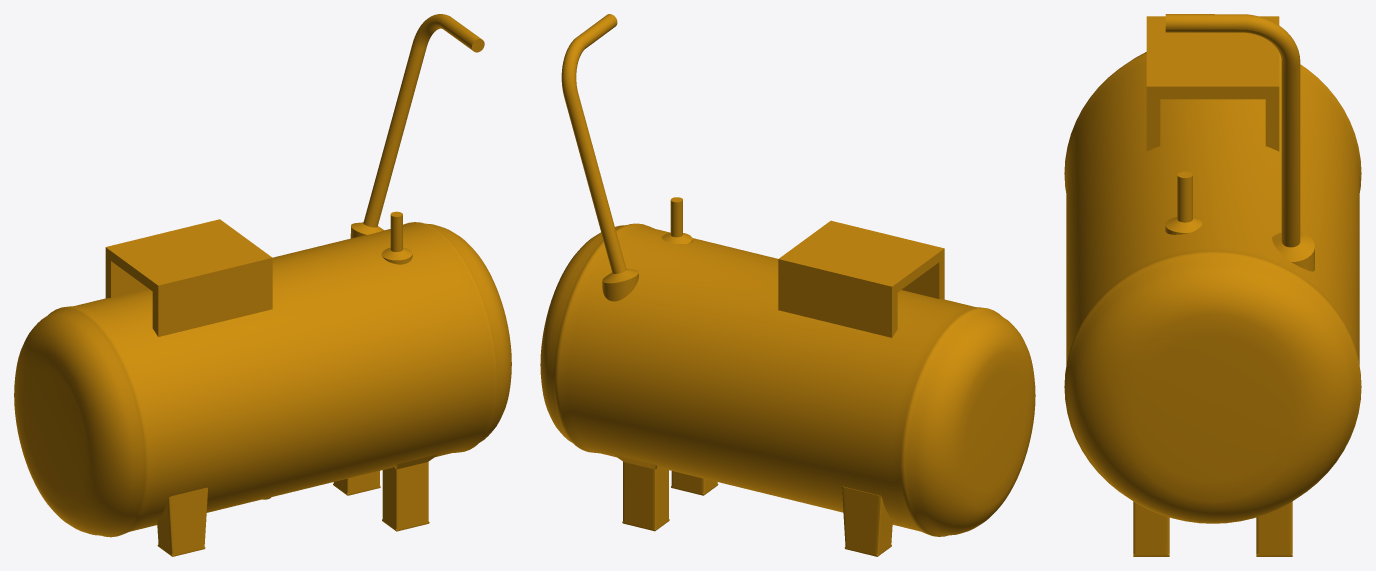
File: 空压机金色罐体.glb
The picture shows the model from 3 angles, left to right: view 1: azimuth 30°, elevation 25°; view 2: azimuth 150°, elevation 25°; view 3: azimuth 270°, elevation 25°; orthographic projection. The views are drawn at different scales.
Parts seen in each view (by area): view 1: 金色机身.001; view 2: 金色机身.001; view 3: 金色机身.001.
Boxes of the visible parts, <box> form: 金色机身.001: <box>14,14,511,556</box>; 金色机身.001: <box>540,14,1035,556</box>; 金色机身.001: <box>1064,14,1361,556</box>.
Size of the model in its own units: 0.7456 by 0.7869 by 0.365.
